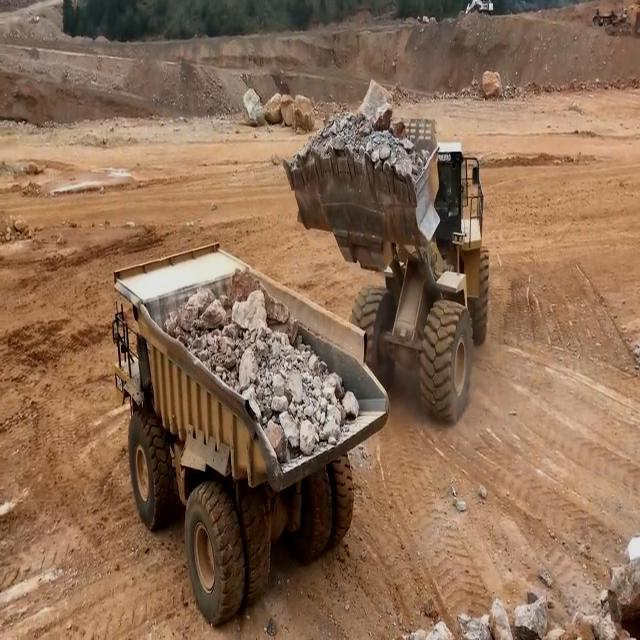machinery: (108, 235, 392, 634), (281, 96, 492, 428)
